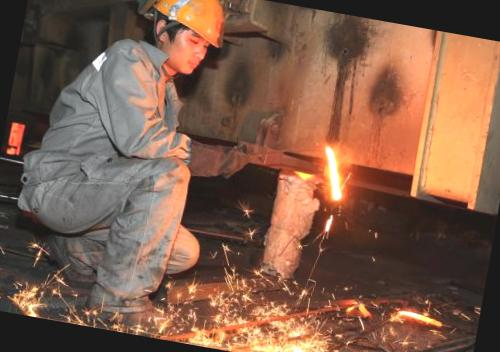person: (0, 0, 301, 352)
